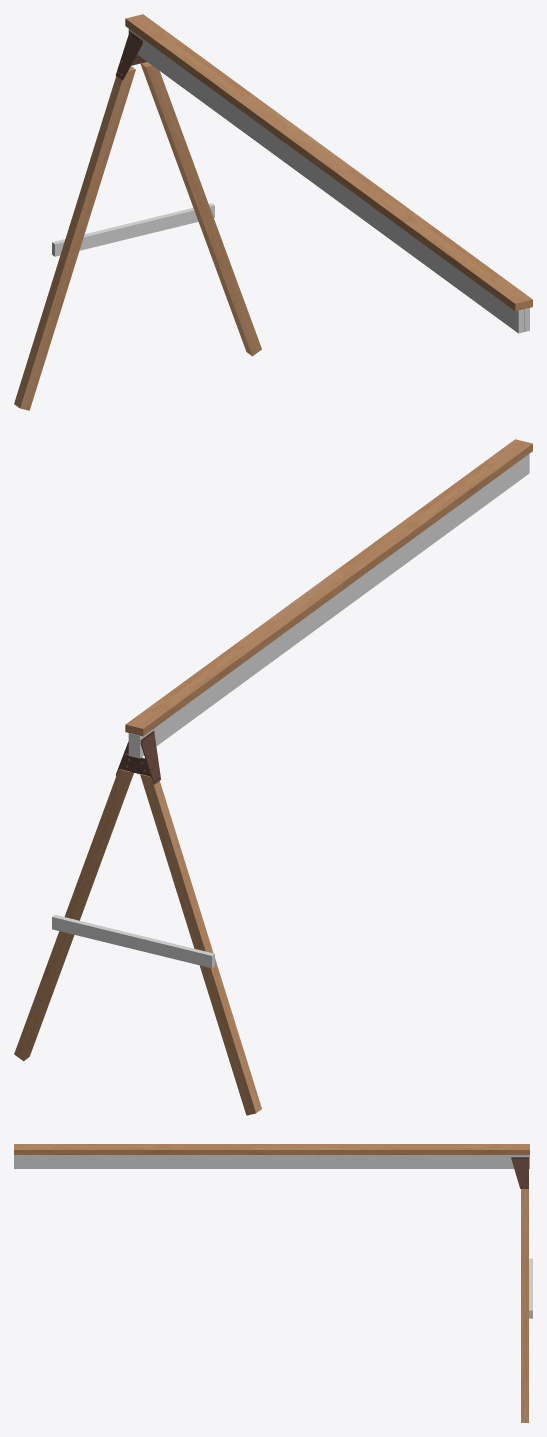
3 renders of one model, top to bottom at view 1: azimuth 30°, elevation 25°; view 2: azimuth 150°, elevation 25°; view 3: azimuth 270°, elevation 25°, orthographic. The views are drawn at different scales.
Visible parts, largest first — view 1: Plane003, Plane003_1,_colorize_, Plane003_2; view 2: Plane003, Plane003_1,_colorize_, Plane003_2; view 3: Plane003, Plane003_1,_colorize_, Plane003_2.
Part boxes in pixels (<box>): Plane003: <box>14,14,532,410</box>; Plane003_1,_colorize_: <box>52,29,529,333</box>; Plane003_2: <box>115,31,146,80</box>; Plane003: <box>14,439,532,1115</box>; Plane003_1,_colorize_: <box>52,454,529,968</box>; Plane003_2: <box>116,730,160,784</box>; Plane003: <box>14,1144,529,1422</box>; Plane003_1,_colorize_: <box>14,1155,532,1318</box>; Plane003_2: <box>511,1157,528,1188</box>.
Size of the model in its own units: 1.94 by 2.77 by 5.43.
3 materials, 1 textured.
